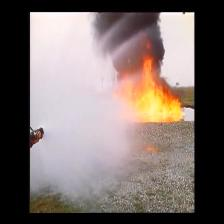fire: (140, 89, 178, 126)
smoke: (108, 12, 160, 58)
